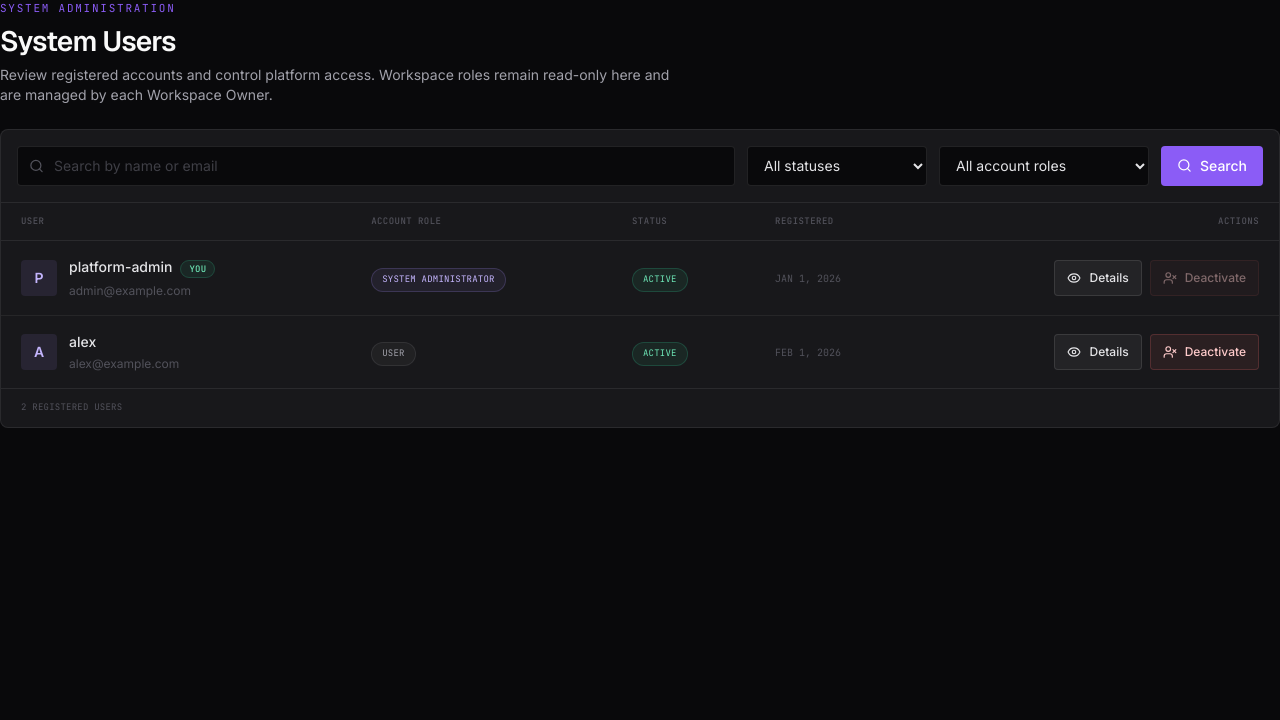
it: user details show account and read-only workspace role assignments
Expected: the text "alex" is shown, top-left (69, 333), bottom-right (96, 350)
What coordinates should you click on to do the following:
click the button "Details" in the row of "alex@example.com"
I would click on:
 (1098, 352)
Its box is top-left (1054, 334), bottom-right (1142, 370).
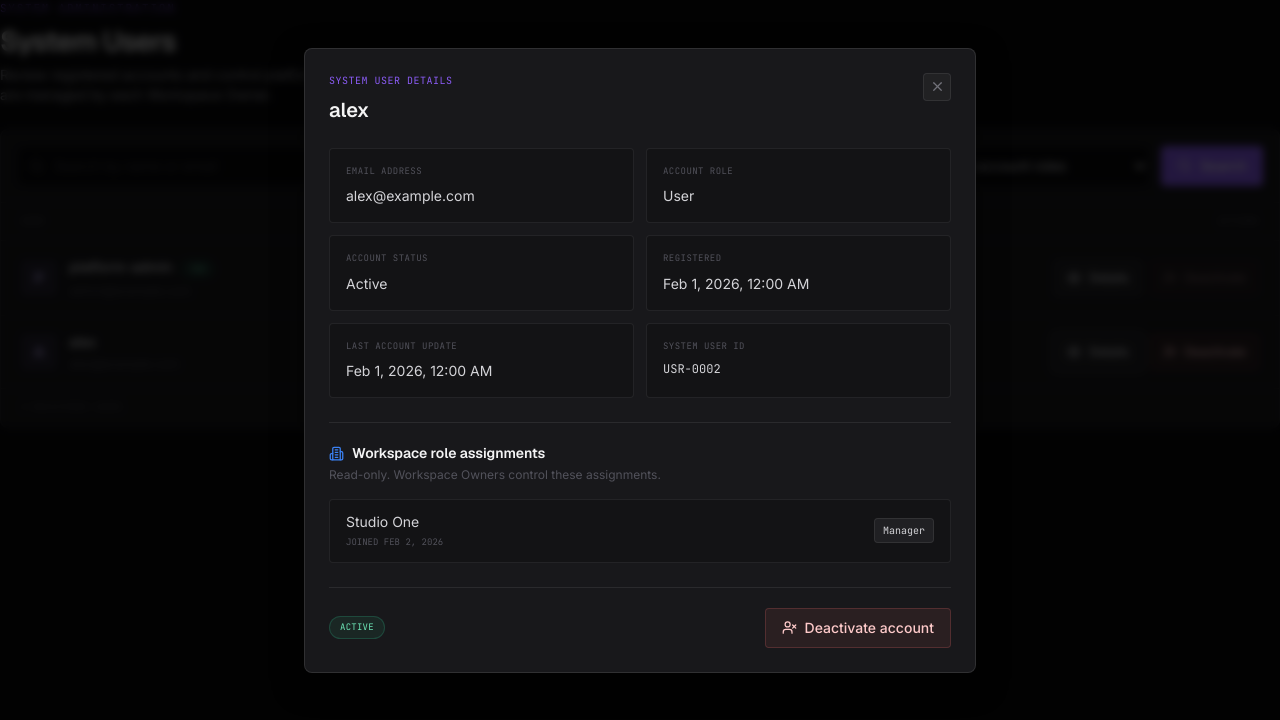
Result: the dialog "alex" is shown at top-left (304, 48), bottom-right (976, 672)
Result: the text "Studio One" is shown at top-left (346, 513), bottom-right (419, 530)
Result: the text "Manager" is shown at top-left (874, 518), bottom-right (934, 543)
